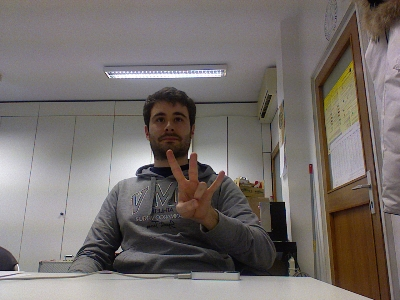观音: (164, 148, 225, 220)
